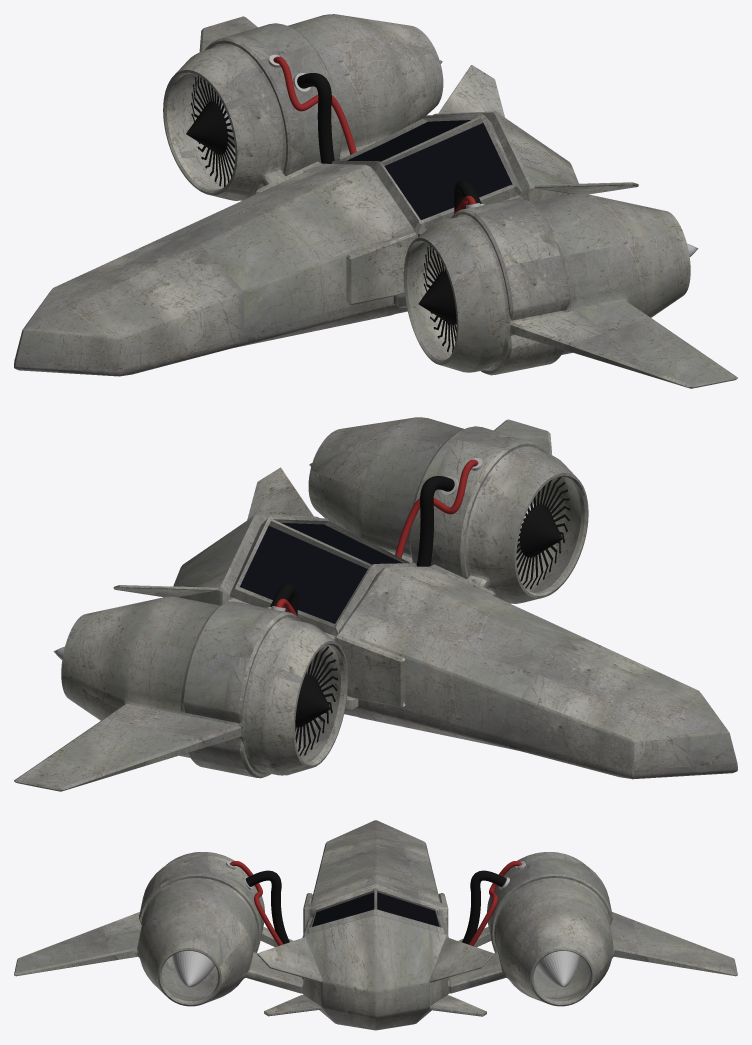
Rendered from Rocketship_temp.FBX.
The picture shows the model from 3 angles, top to bottom: view 1: azimuth 30°, elevation 25°; view 2: azimuth 150°, elevation 25°; view 3: azimuth 270°, elevation 25°; orthographic projection. The views are drawn at different scales.
Parts seen in each view (by area): view 1: Cylinder005, Cone003, Cone002, Loft003, Loft004; view 2: Cylinder005, Cone002, Cone003, Loft001, Loft002; view 3: Cylinder005, Cylinder002, Cylinder006, Loft003, Loft001, Loft004, Loft002.
Boxes of the visible parts, bbox=[...] form: Cylinder005: bbox=[14, 14, 737, 388]; Cone003: bbox=[186, 76, 235, 186]; Cone002: bbox=[418, 246, 456, 352]; Loft003: bbox=[297, 73, 334, 163]; Loft004: bbox=[273, 56, 356, 154]; Cylinder005: bbox=[14, 417, 737, 791]; Cone002: bbox=[516, 477, 570, 589]; Cone003: bbox=[295, 646, 337, 756]; Loft001: bbox=[417, 476, 454, 566]; Loft002: bbox=[395, 459, 478, 558]; Cylinder005: bbox=[14, 820, 737, 1030]; Cylinder002: bbox=[172, 951, 214, 987]; Cylinder006: bbox=[537, 951, 579, 987]; Loft003: bbox=[462, 870, 506, 944]; Loft001: bbox=[245, 870, 289, 944]; Loft004: bbox=[468, 861, 522, 946]; Loft002: bbox=[229, 861, 283, 945].
Bounding box in the file's own units: 105 × 29.24 × 162.
Materials: 5 (1 with a texture image).
